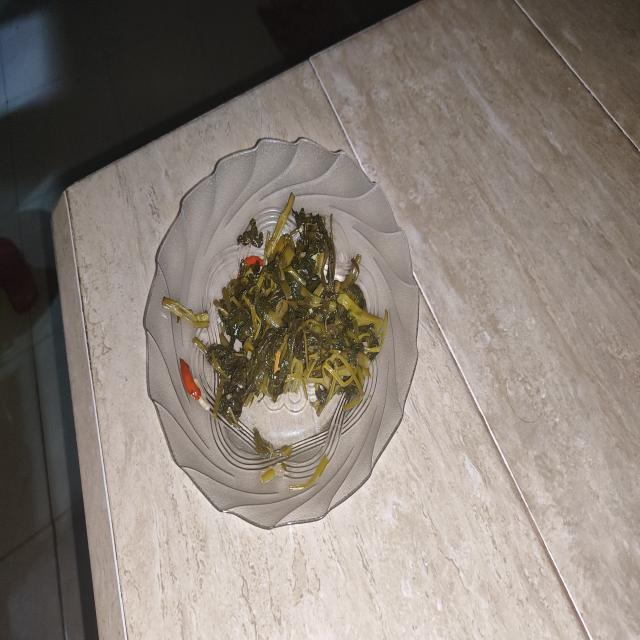tumis_kangkung: (192, 211, 392, 438)
